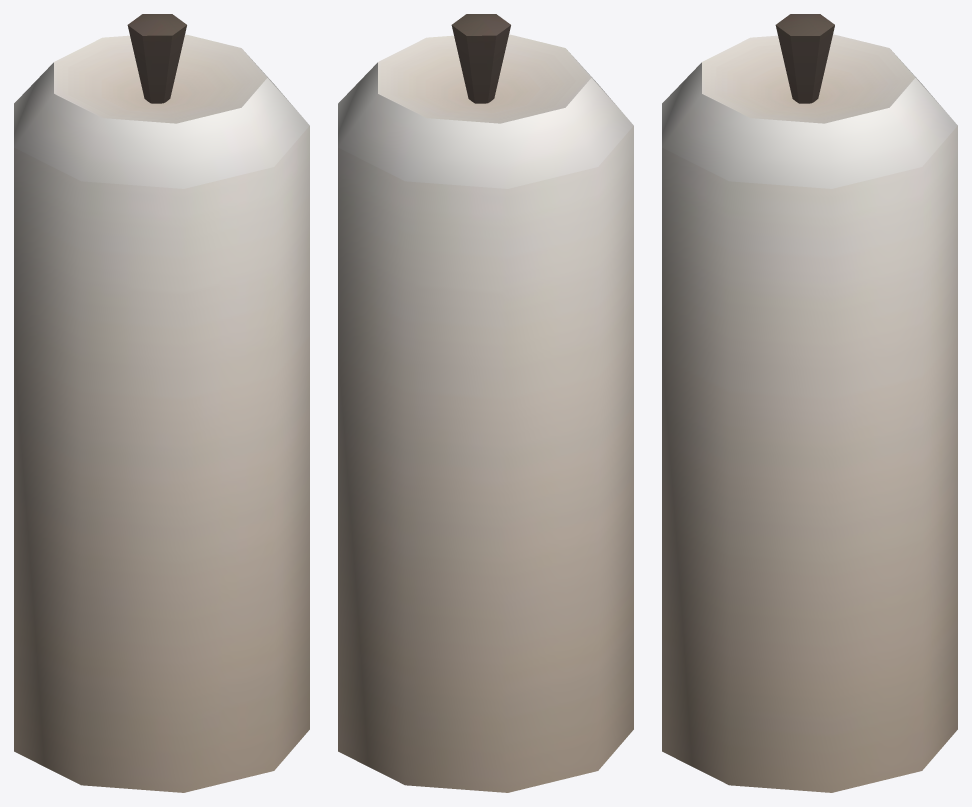
The model's file is candle-gltf.glb.
The picture shows the model from 3 angles, left to right: view 1: azimuth 30°, elevation 25°; view 2: azimuth 150°, elevation 25°; view 3: azimuth 270°, elevation 25°; orthographic projection.
Parts seen in each view (by area): view 1: candle; view 2: candle; view 3: candle.
Boxes of the visible parts, x1,y1,x2,y2 form: candle: [14, 14, 309, 792]; candle: [338, 14, 633, 792]; candle: [662, 14, 957, 792].
Bounding box in the file's own units: 0.3343 × 0.873 × 0.3293.
Materials: 1 (1 with a texture image).
